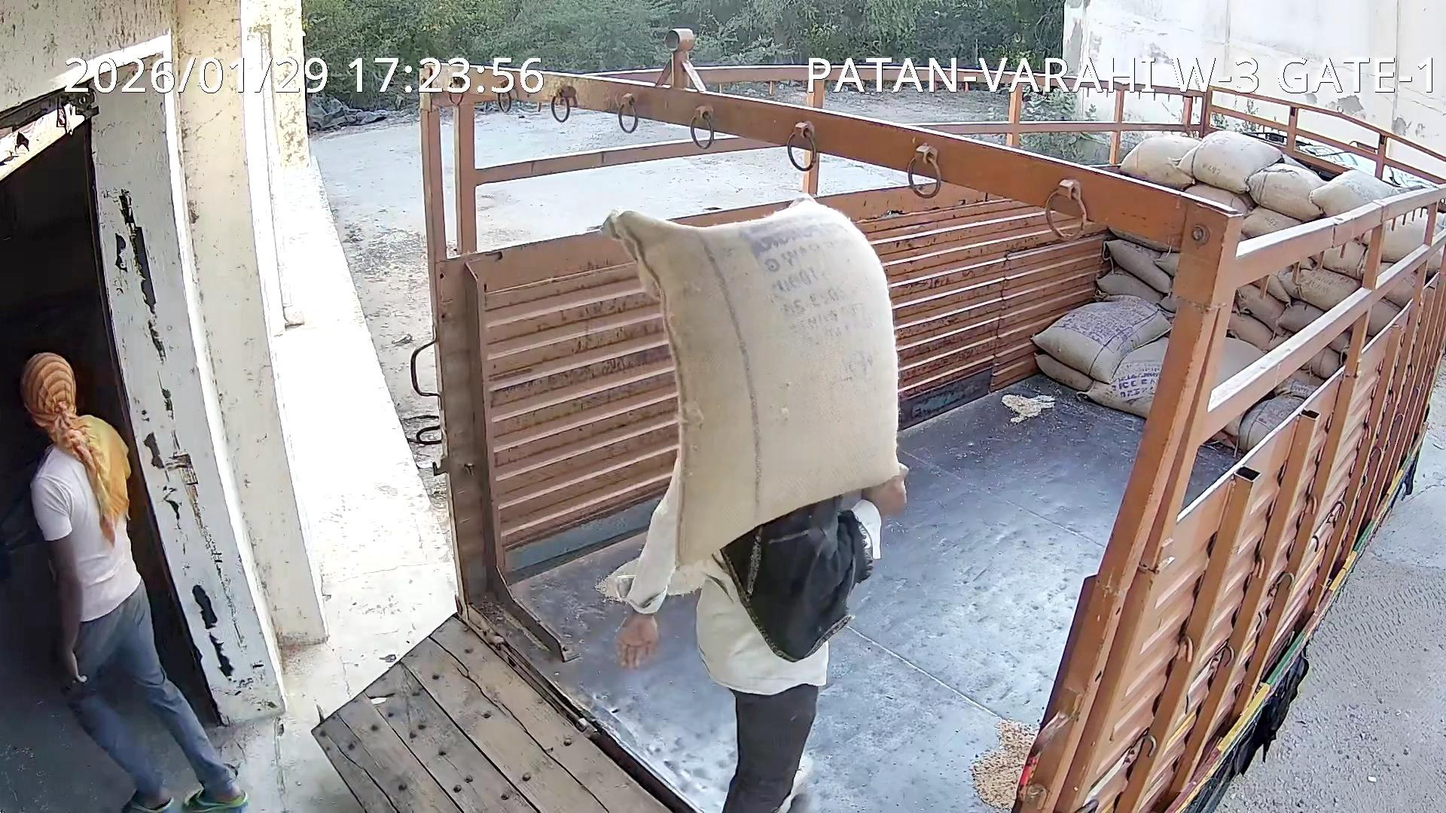Sack: (602, 197, 898, 565)
